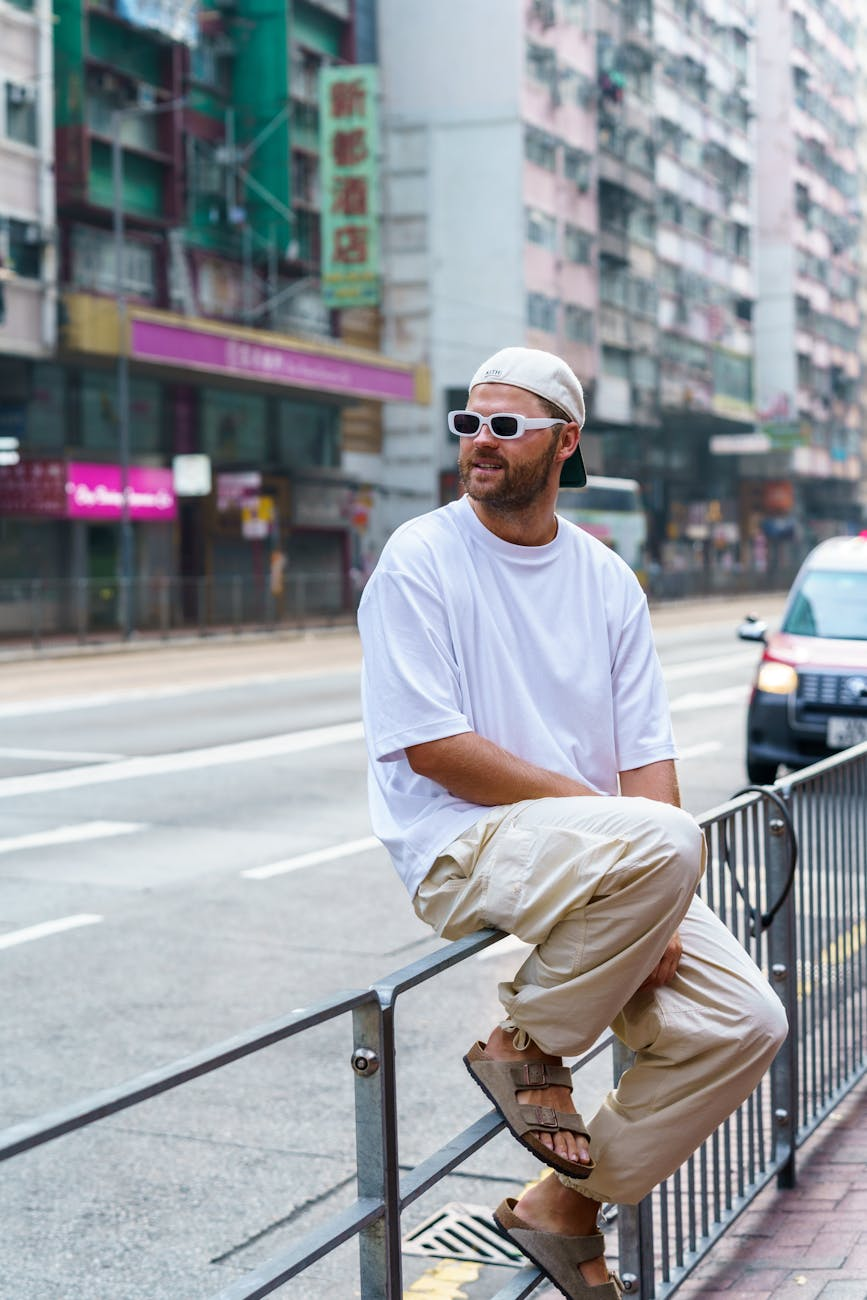opened_foot: (464, 1014, 601, 1172), (496, 1197, 640, 1294)
